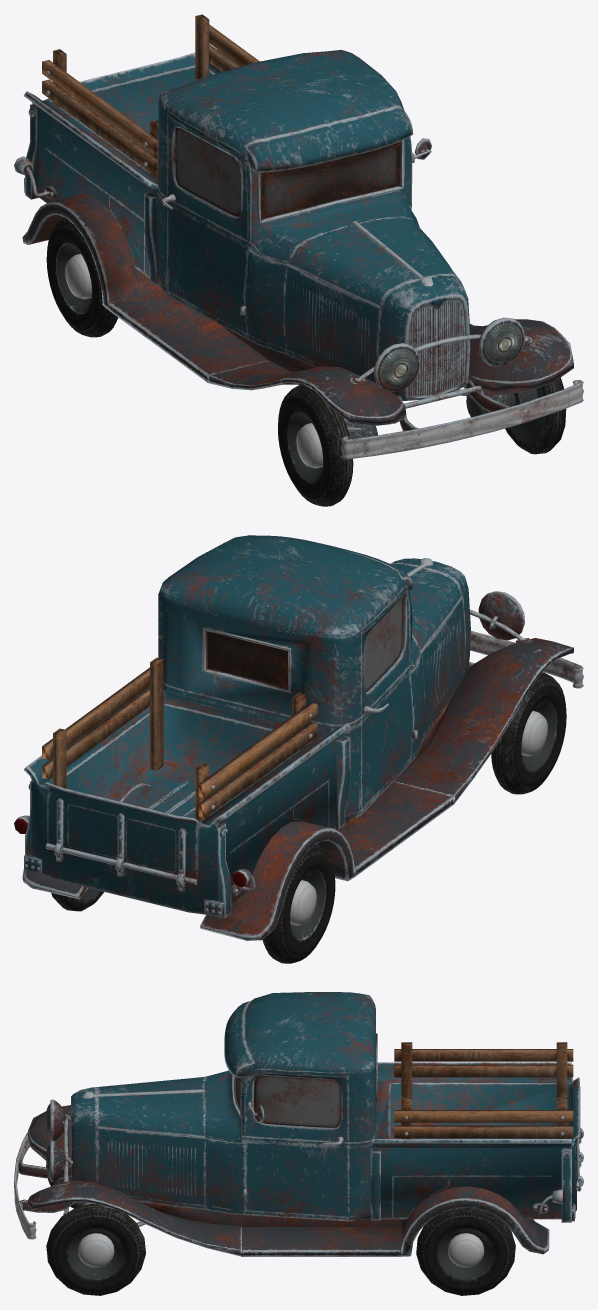
File: ford-model-pickup.glb
The picture shows the model from 3 angles, top to bottom: view 1: azimuth 30°, elevation 25°; view 2: azimuth 150°, elevation 25°; view 3: azimuth 270°, elevation 25°; orthographic projection. The views are drawn at different scales.
Visible parts, largest first — view 1: Plane.079, Plane.081, WFR, WRR, WFL; view 2: Plane.079, Plane.081, WFR, WRR, WRL; view 3: Plane.079, Plane.081, WFL, WRL.
Boxes of the visible parts, box(x1,y1,x2,y2) form: Plane.079: box(23, 49, 470, 400); Plane.081: box(14, 14, 583, 459); WFR: box(278, 384, 377, 506); WRR: box(46, 218, 118, 337); WFL: box(466, 377, 566, 454); Plane.079: box(23, 535, 470, 918); Plane.081: box(14, 535, 583, 940); WFR: box(491, 672, 566, 794); WRR: box(262, 844, 335, 963); WRL: box(51, 888, 103, 911); Plane.079: box(71, 992, 583, 1226); Plane.081: box(14, 1000, 573, 1256); WFL: box(46, 1204, 145, 1295); WRL: box(416, 1208, 515, 1295).
Size of the model in its own units: 248 by 285 by 619.
Materials: 3 (3 with a texture image).
